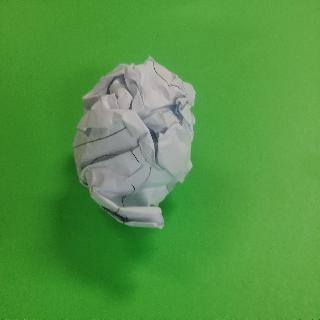8/可回收垃圾/纸: (73, 54, 197, 230)
